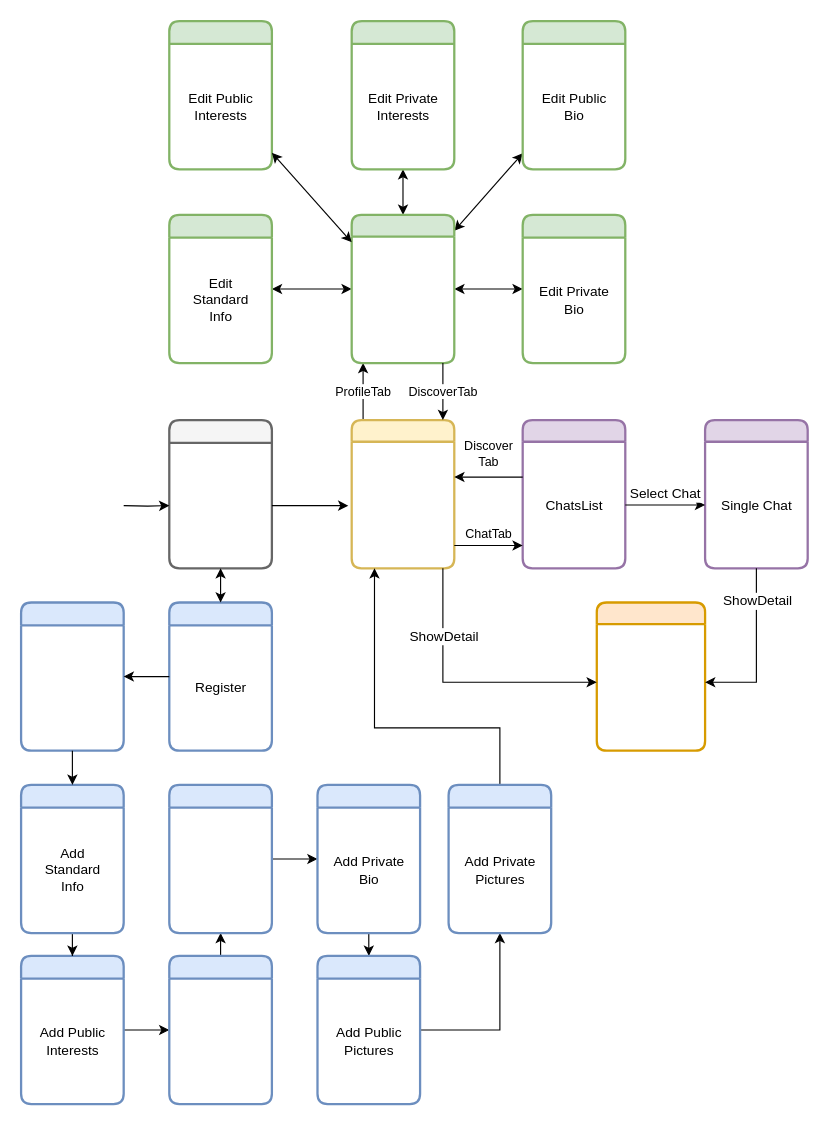
Some shapes in this 828 by 1124 pixel diagram are drawn without their labels. The centre of each missing label's shape, as x and y in pixels:
"Add Private Interests" belongs at (220,1029).
"Add Public Bio" belongs at (220,858).
"AddLocation" belongs at (71,676).
"Discover" belongs at (402,493).
"Login" belongs at (220,493).
"Profile" belongs at (402,288).
"Show Partner Detail" belongs at (650,676).
